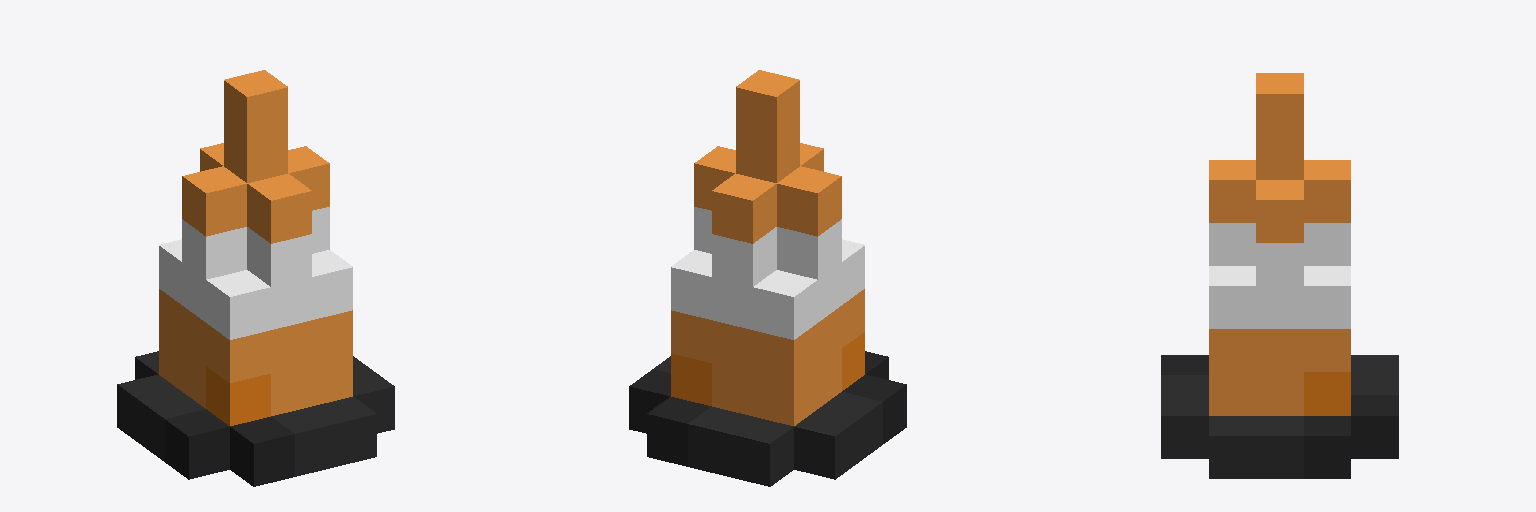
3 renders of one model, left to right at view 1: azimuth 30°, elevation 25°; view 2: azimuth 150°, elevation 25°; view 3: azimuth 270°, elevation 25°, orthographic.
Visible parts, largest first — view 1: YellowMushroom_4; view 2: YellowMushroom_4; view 3: YellowMushroom_4.
Part boxes in pixels (x1,y1,x2,y2): YellowMushroom_4: (117, 70, 394, 486); YellowMushroom_4: (629, 70, 906, 486); YellowMushroom_4: (1161, 73, 1398, 478).
Size of the model in its own units: 5 by 8 by 5.
1 materials, 1 textured.